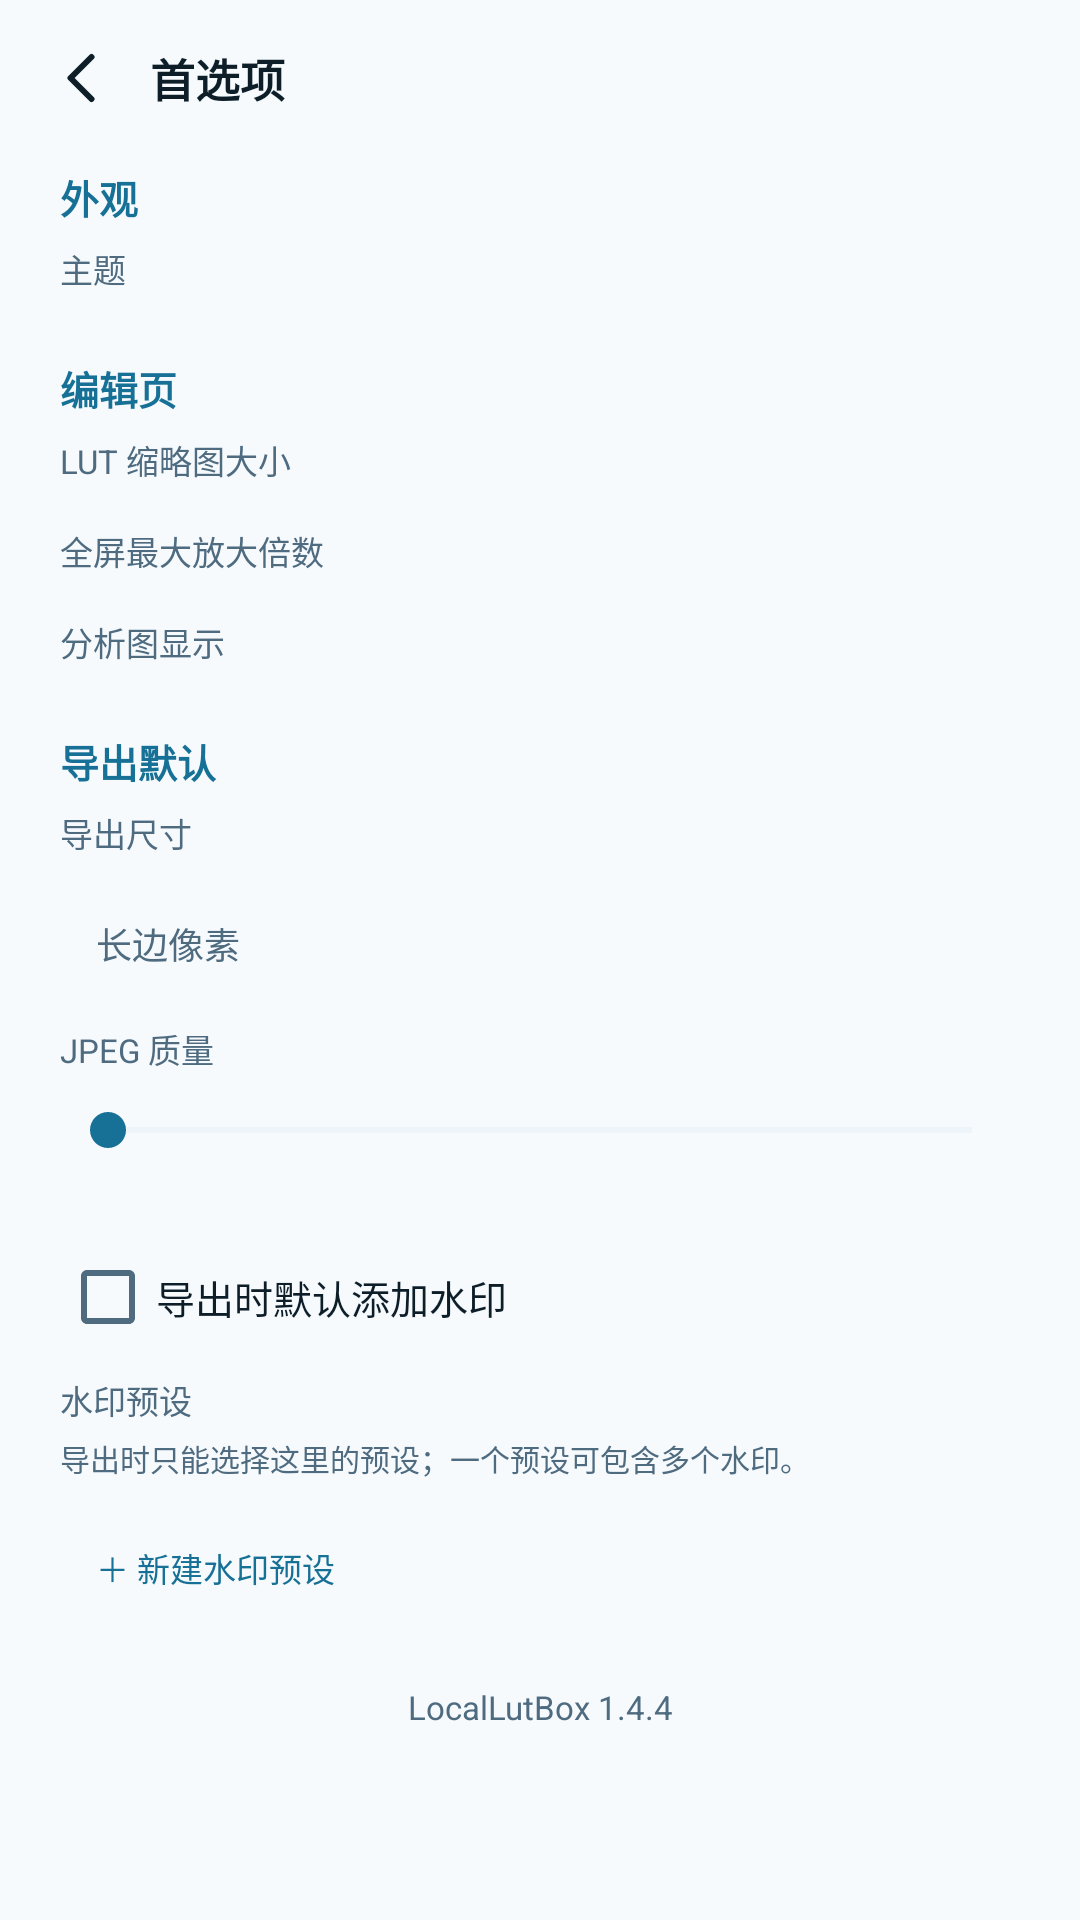

Icons on this 1080x1920 Android screen, each with its box as rect(x1, y1, x2, y2):
返回: rect(67, 53, 95, 103)
